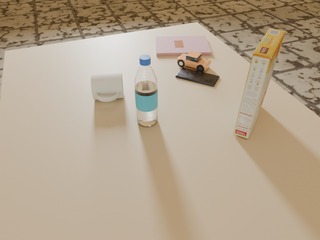book: (156, 36, 211, 56)
bottle: (135, 55, 158, 126)
box: (233, 29, 285, 139)
cup: (91, 73, 123, 102)
phone: (176, 68, 219, 86)
toy_car: (177, 51, 211, 72)
